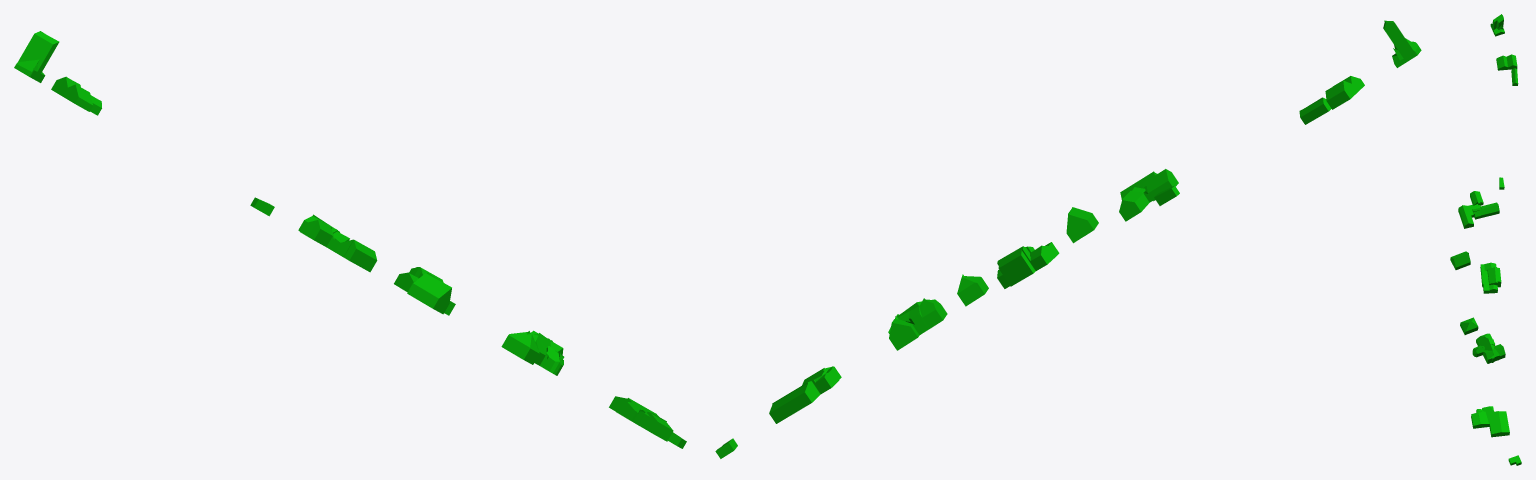
3 views of the same model, side by side, from view 1: azimuth 30°, elevation 25°; view 2: azimuth 150°, elevation 25°; view 3: azimuth 270°, elevation 25° (orthographic). The views are drawn at different scales.
Parts seen in each view (by area): view 1: mesh; view 2: mesh; view 3: mesh.
Boxes of the visible parts, left/top/right/bottom form: mesh: left=14, top=31, right=686, bottom=448; mesh: left=715, top=20, right=1421, bottom=458; mesh: left=1450, top=14, right=1521, bottom=465.
Size of the model in its own units: 215 by 175 by 38.89.
